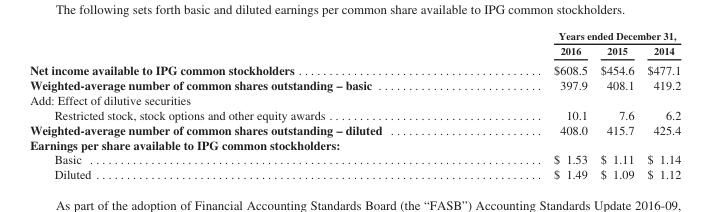table: (29, 29, 680, 180)
table column: (29, 29, 467, 180), (467, 29, 593, 180), (593, 29, 640, 180), (640, 29, 680, 180)
table column header: (29, 29, 680, 59)
table projected row header: (29, 92, 680, 107), (29, 136, 680, 151)
table row: (29, 59, 680, 77), (29, 42, 680, 59), (29, 77, 680, 92), (29, 92, 680, 107), (29, 121, 680, 136), (29, 136, 680, 151), (29, 151, 680, 166), (29, 107, 680, 121), (29, 166, 680, 180), (29, 29, 680, 42)
table spanning cell: (467, 29, 680, 42)
